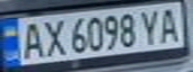0: (84, 14, 106, 52)
6: (66, 15, 87, 54)
8: (118, 10, 139, 47)
9: (103, 11, 124, 51)
A: (15, 19, 45, 60), (154, 4, 184, 43)
X: (39, 16, 69, 57)
Y: (136, 7, 163, 46)
